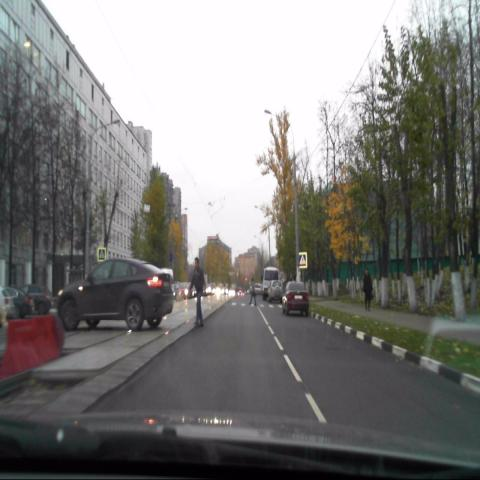5_19_1: (298, 253, 307, 267), (98, 247, 106, 262)
